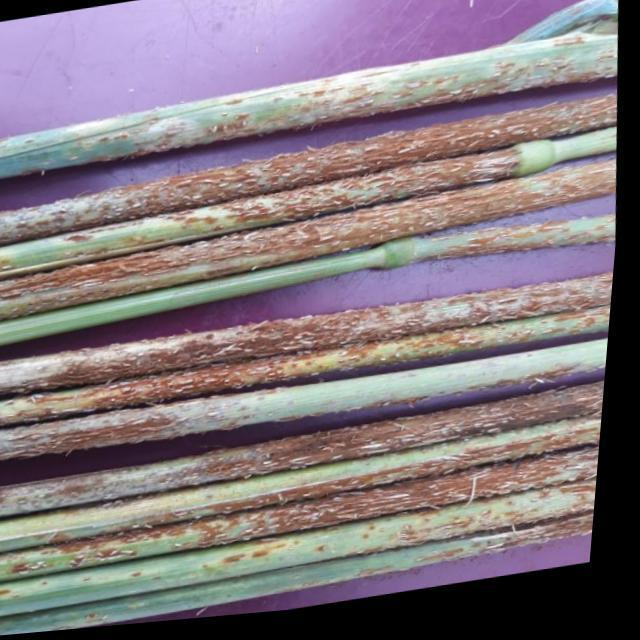Stem Rust: (0, 96, 613, 622)
